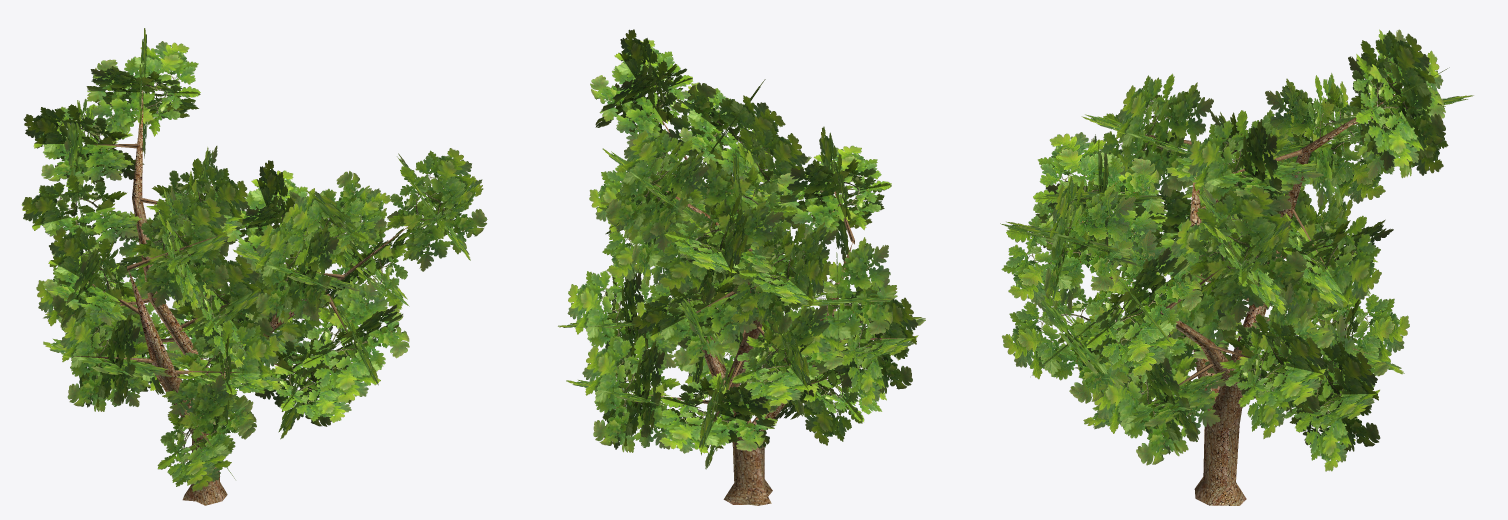
The model's file is oaktree.obj.
3 renders of one model, left to right at view 1: azimuth 30°, elevation 25°; view 2: azimuth 150°, elevation 25°; view 3: azimuth 270°, elevation 25°, orthographic. The views are drawn at different scales.
Visible parts, largest first — view 1: Plane022, Plane02; view 2: Plane022, Plane02; view 3: Plane022, Plane02.
Part boxes in pixels (<box>): Plane022: <box>21,28,487,491</box>; Plane02: <box>61,86,408,505</box>; Plane022: <box>558,29,925,469</box>; Plane02: <box>624,121,907,505</box>; Plane022: <box>1000,29,1473,471</box>; Plane02: <box>1078,91,1401,505</box>.
Size of the model in its own units: 622 by 626 by 588.
